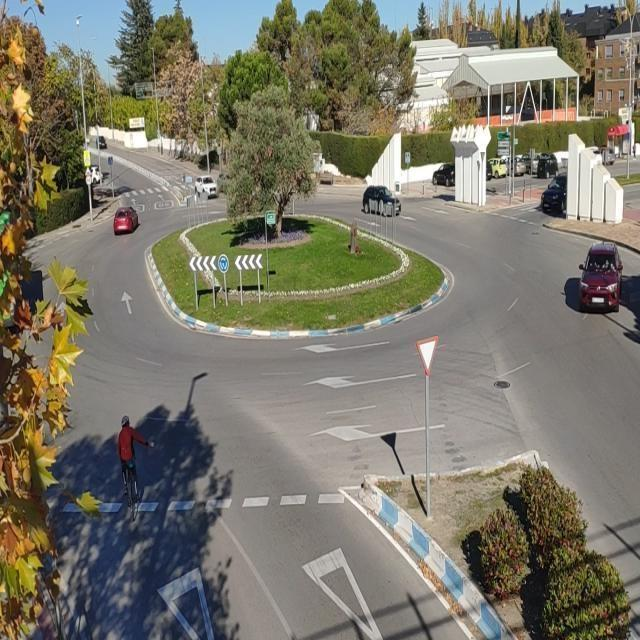Car: (557, 231, 631, 315), (111, 410, 152, 514), (360, 178, 407, 216), (534, 174, 570, 218), (110, 202, 144, 240), (188, 173, 224, 196), (428, 164, 462, 188)
